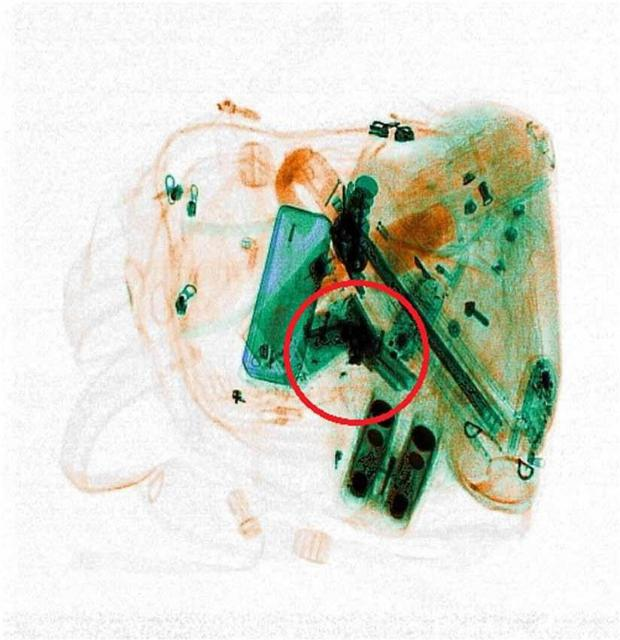Gun: (298, 290, 416, 392)
